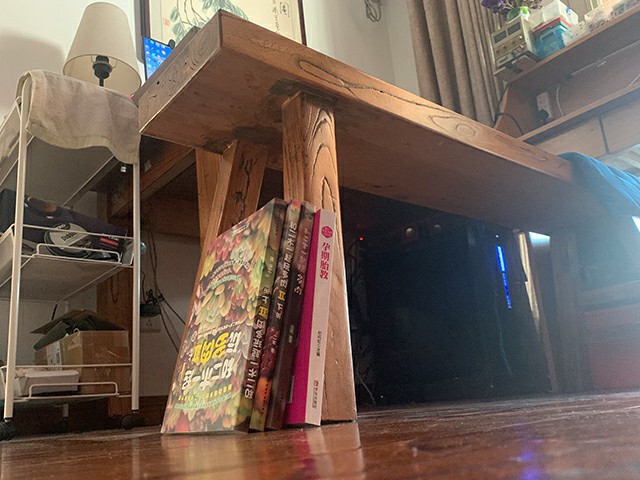book: (159, 197, 336, 435)
stool: (137, 7, 626, 423)
wire: (344, 237, 381, 410)
